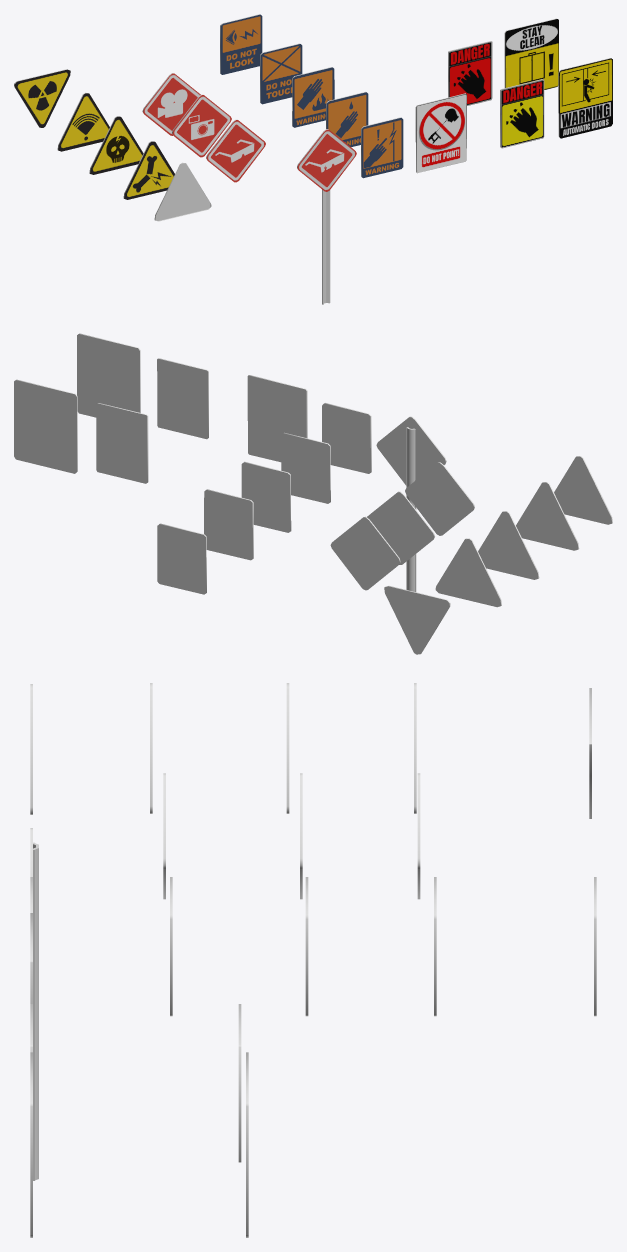
The model's file is more_signs.gltf.
3 renders of one model, top to bottom at view 1: azimuth 30°, elevation 25°; view 2: azimuth 150°, elevation 25°; view 3: azimuth 270°, elevation 25°, orthographic. The views are drawn at different scales.
Visible parts, largest first — view 1: Dude_chopped_in_half, Do_Not_Point, Stay_clear, Danger_fingies.001, Danger_fingies, Finger_zapped, Dont_look, Glasses, Broken_glasses, Picturea_cam, Hand_fire, Dont_touch (+8 smaller); view 2: Stay_clear, Dude_chopped_in_half, Do_Not_Point, Danger_fingies, Danger_fingies.001, Dont_look, Dont_touch, Film_cam, Glasses, Finger_zapped, Hand_acid, Hand_fire (+8 smaller); view 3: Pole.
Part boxes in pixels (x1,y1,x2,y2): Dude_chopped_in_half: (558, 58, 612, 138); Do_Not_Point: (415, 93, 466, 173); Stay_clear: (504, 18, 558, 89); Danger_fingies.001: (500, 79, 544, 148); Danger_fingies: (448, 41, 492, 105); Finger_zapped: (361, 117, 403, 178); Dont_look: (220, 14, 262, 74); Glasses: (206, 119, 265, 182); Broken_glasses: (297, 129, 356, 191); Picturea_cam: (172, 94, 231, 157); Hand_fire: (292, 67, 334, 127); Dont_touch: (260, 43, 302, 104); Stay_clear: (14, 379, 77, 473); Dude_chopped_in_half: (77, 333, 140, 417); Do_Not_Point: (247, 375, 307, 462); Danger_fingies: (96, 403, 148, 483); Danger_fingies.001: (157, 358, 208, 439); Dont_look: (157, 523, 206, 594); Dont_touch: (204, 489, 253, 560); Film_cam: (330, 516, 400, 590); Glasses: (405, 462, 474, 535); Finger_zapped: (322, 403, 371, 473); Hand_acid: (281, 432, 330, 503); Hand_fire: (241, 461, 291, 532); Pole: (33, 842, 38, 1180).
Size of the model in its own units: 1.6 by 0.5881 by 0.8545.
2 materials, 1 textured.
